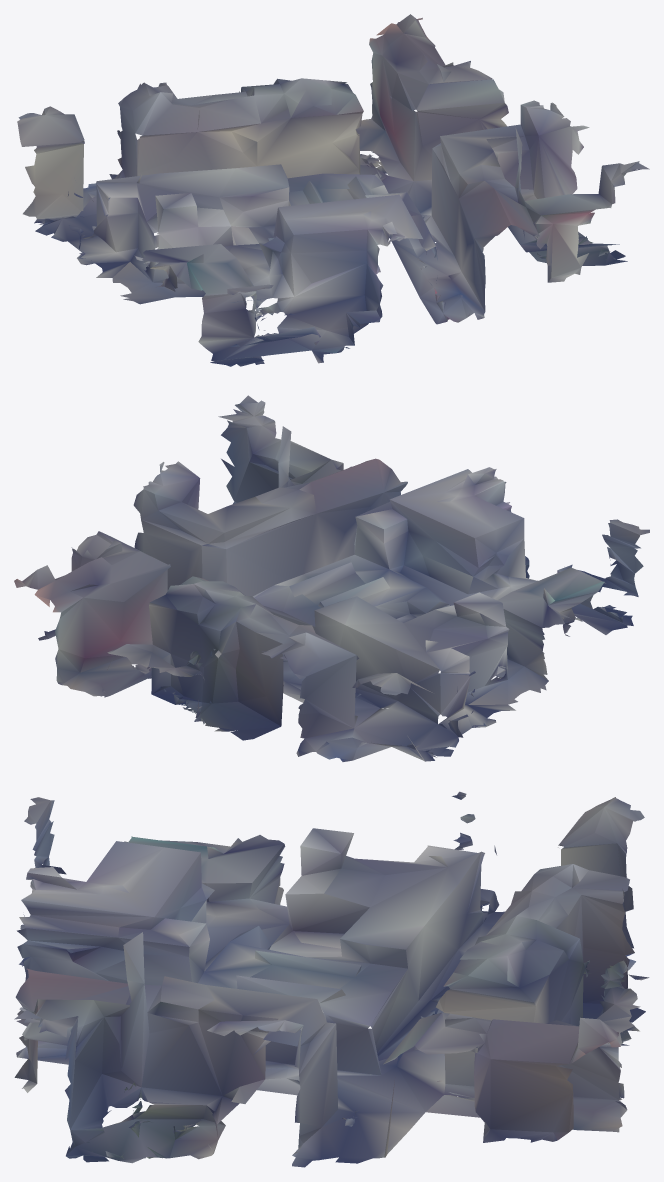
3 renders of one model, top to bottom at view 1: azimuth 30°, elevation 25°; view 2: azimuth 150°, elevation 25°; view 3: azimuth 270°, elevation 25°, orthographic. The views are drawn at different scales.
Size of the model in its own units: 108 by 34.73 by 108.
